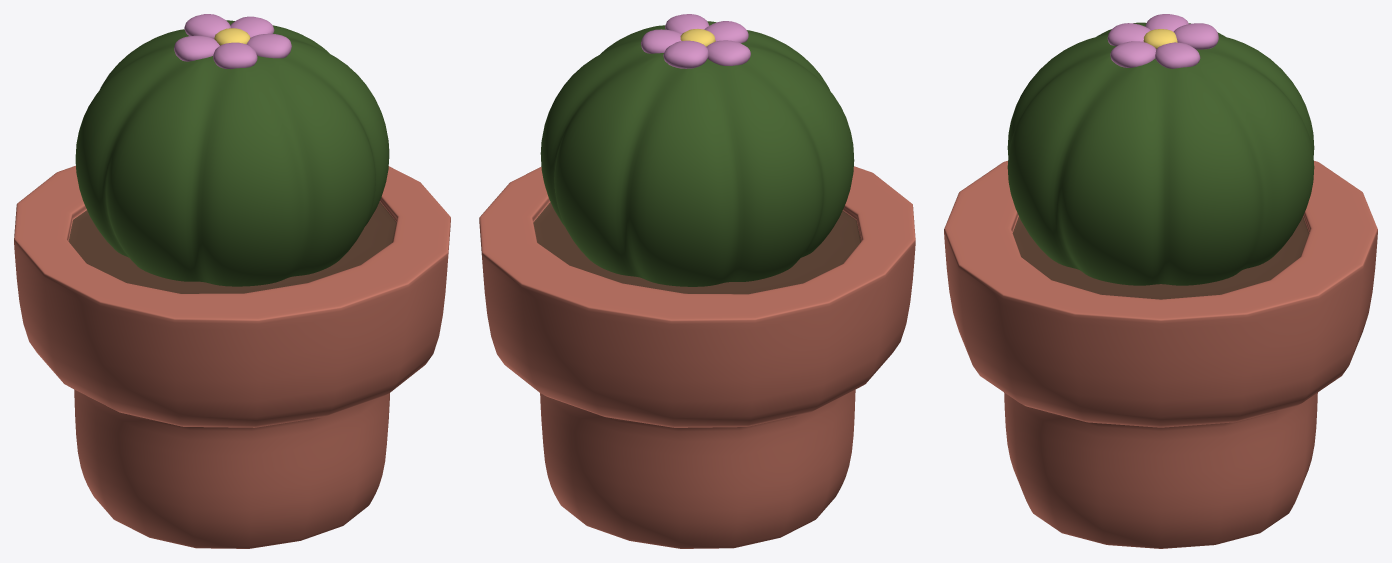
The model's file is cactus.gltf.
3 renders of one model, left to right at view 1: azimuth 30°, elevation 25°; view 2: azimuth 150°, elevation 25°; view 3: azimuth 270°, elevation 25°, orthographic.
Parts seen in each view (by area): view 1: cactus; view 2: cactus; view 3: cactus.
Boxes of the visible parts, x1,y1,x2,y2 form: cactus: (14, 14, 450, 548); cactus: (479, 14, 915, 548); cactus: (944, 14, 1377, 548).
Size of the model in its own units: 0.1078 by 0.1264 by 0.1078.
